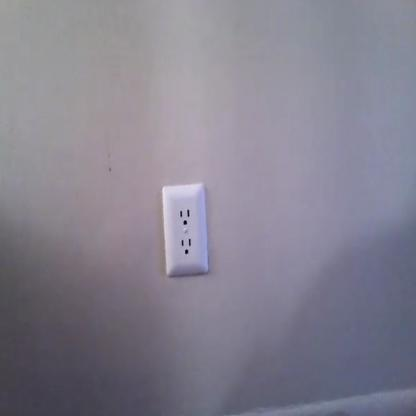OUTLET: (161, 183, 209, 275)
